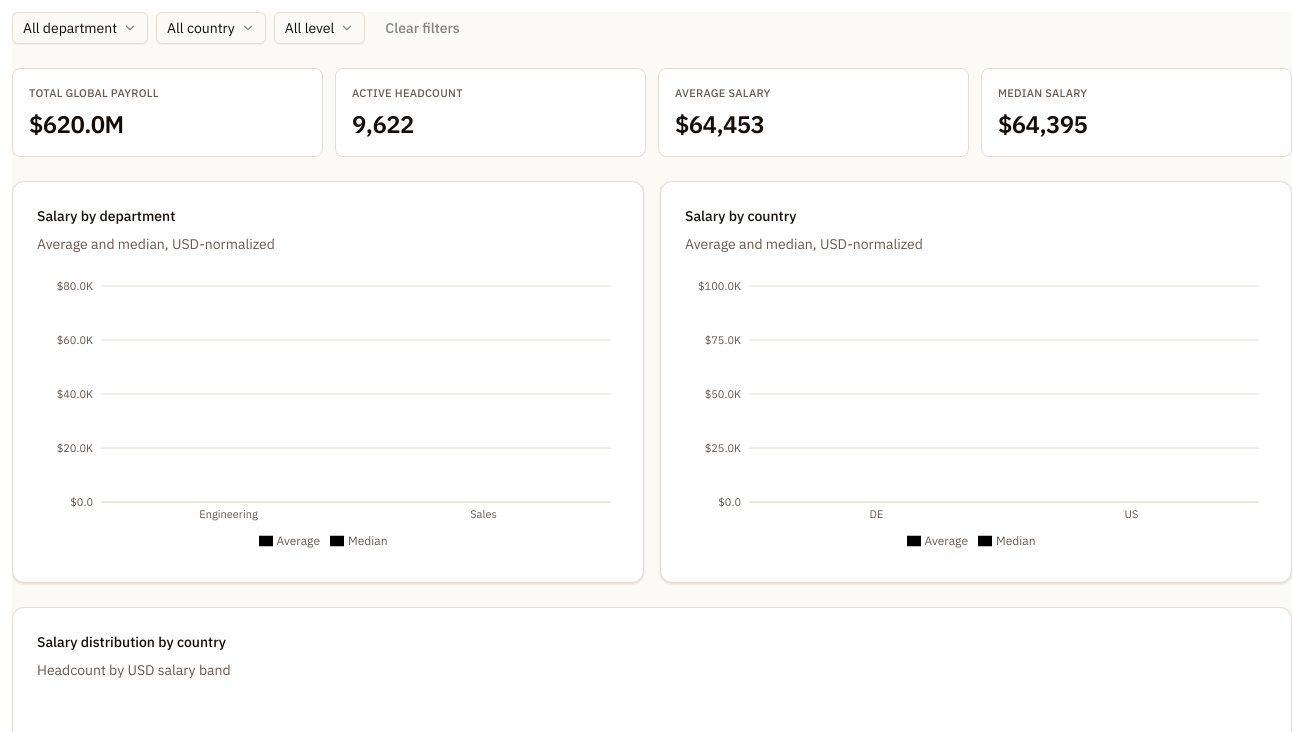
AnalyticsDashboard › clears active filters and re-fetches with everything empty
Expected: the text "Total global payroll" is shown, [29,86,159,100]
Expected: the button "Clear filters" is disabled, [373,12,472,44]
Click the button "All department". click: [80, 28]
box: [12,12,148,44]
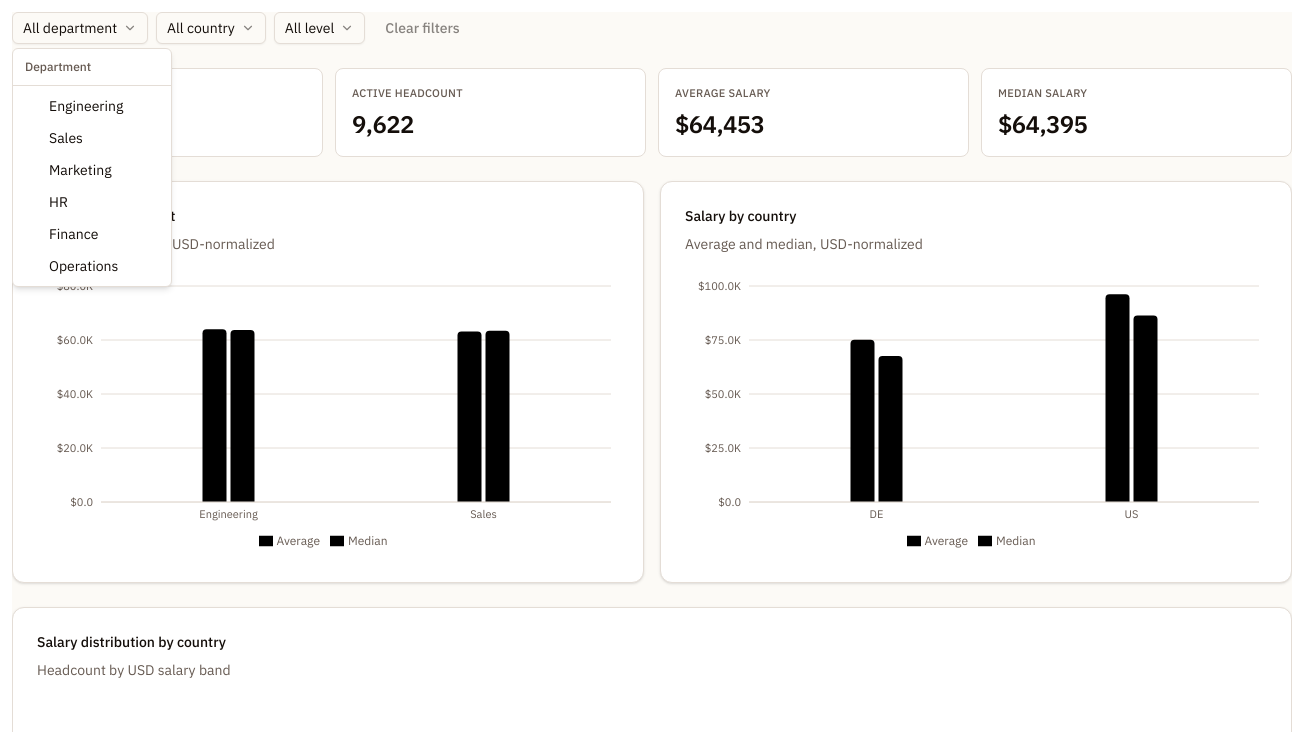
Click the menu item "Engineering". click: [86, 106]
box: [49,97,123,115]
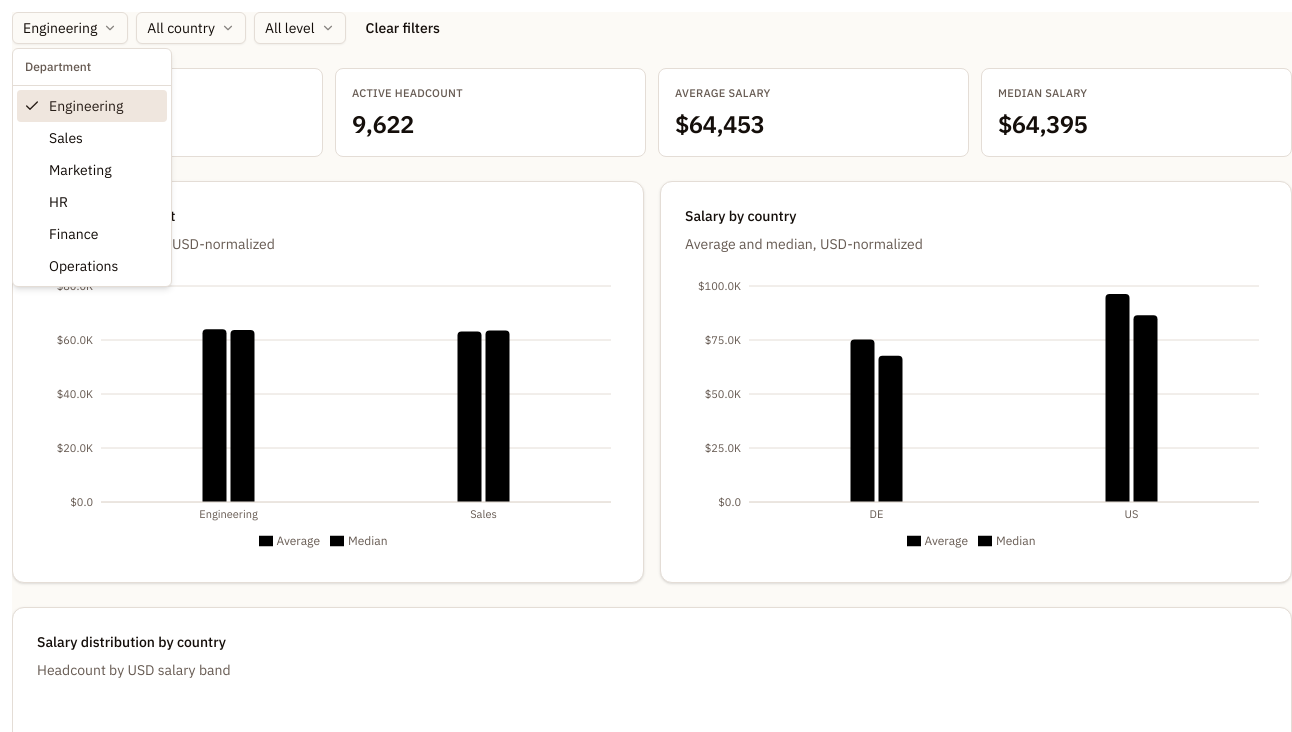
Press Escape
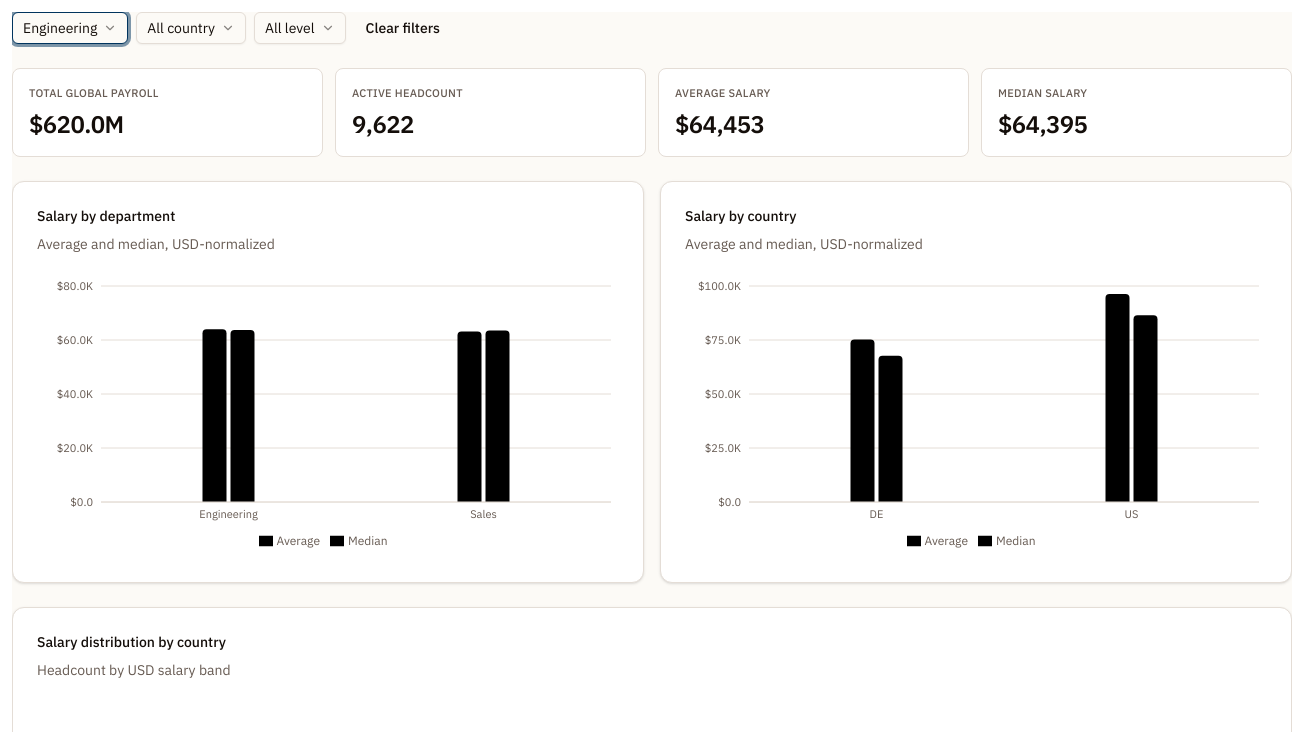
Now the button "Clear filters" is enabled
Click the button "Clear filters". click: [403, 28]
box: [354,12,452,44]
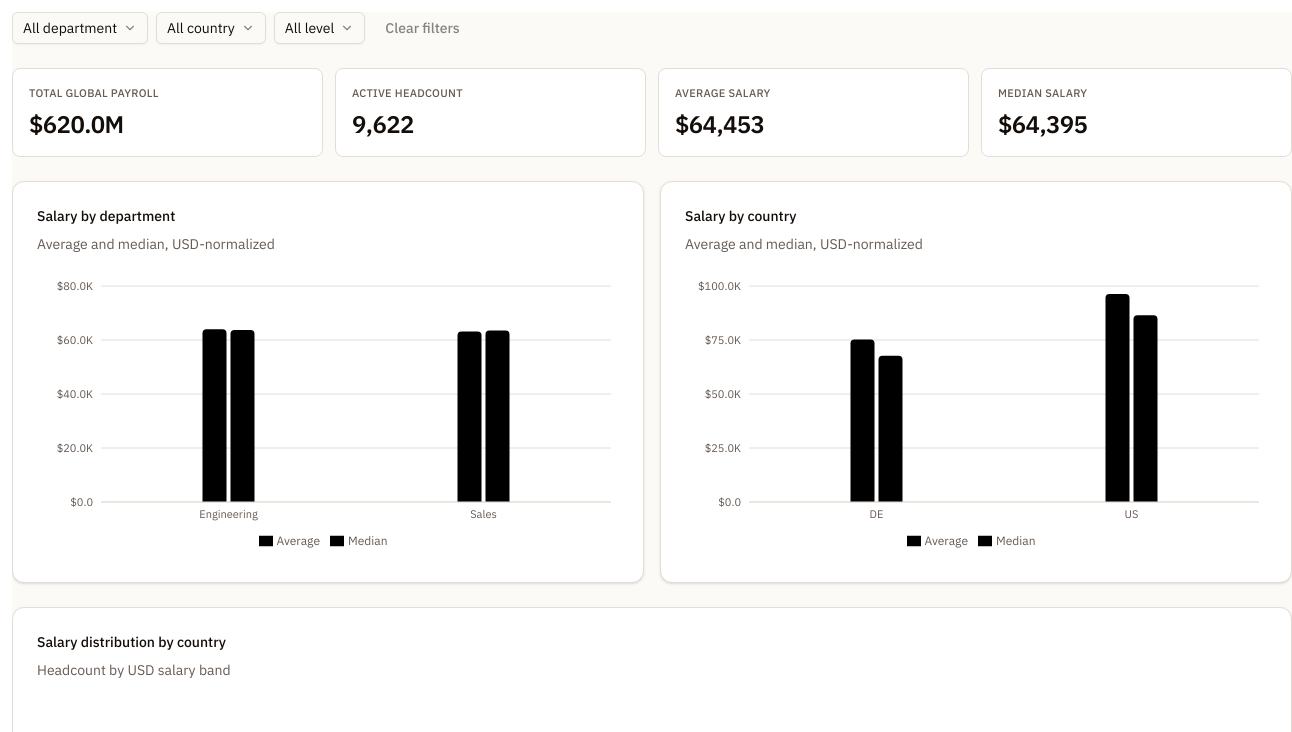
Now the button "All department" is shown, box [12,12,148,44]
Now the button "Clear filters" is disabled, box [373,12,472,44]
